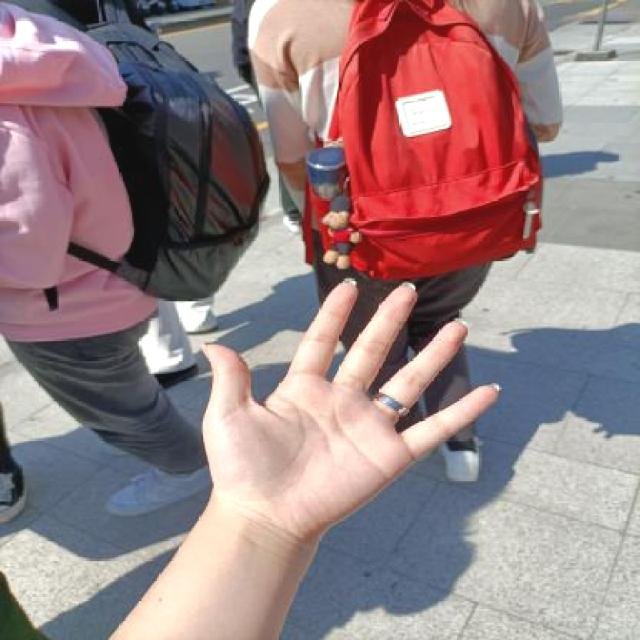no_glove: (180, 264, 518, 550)
